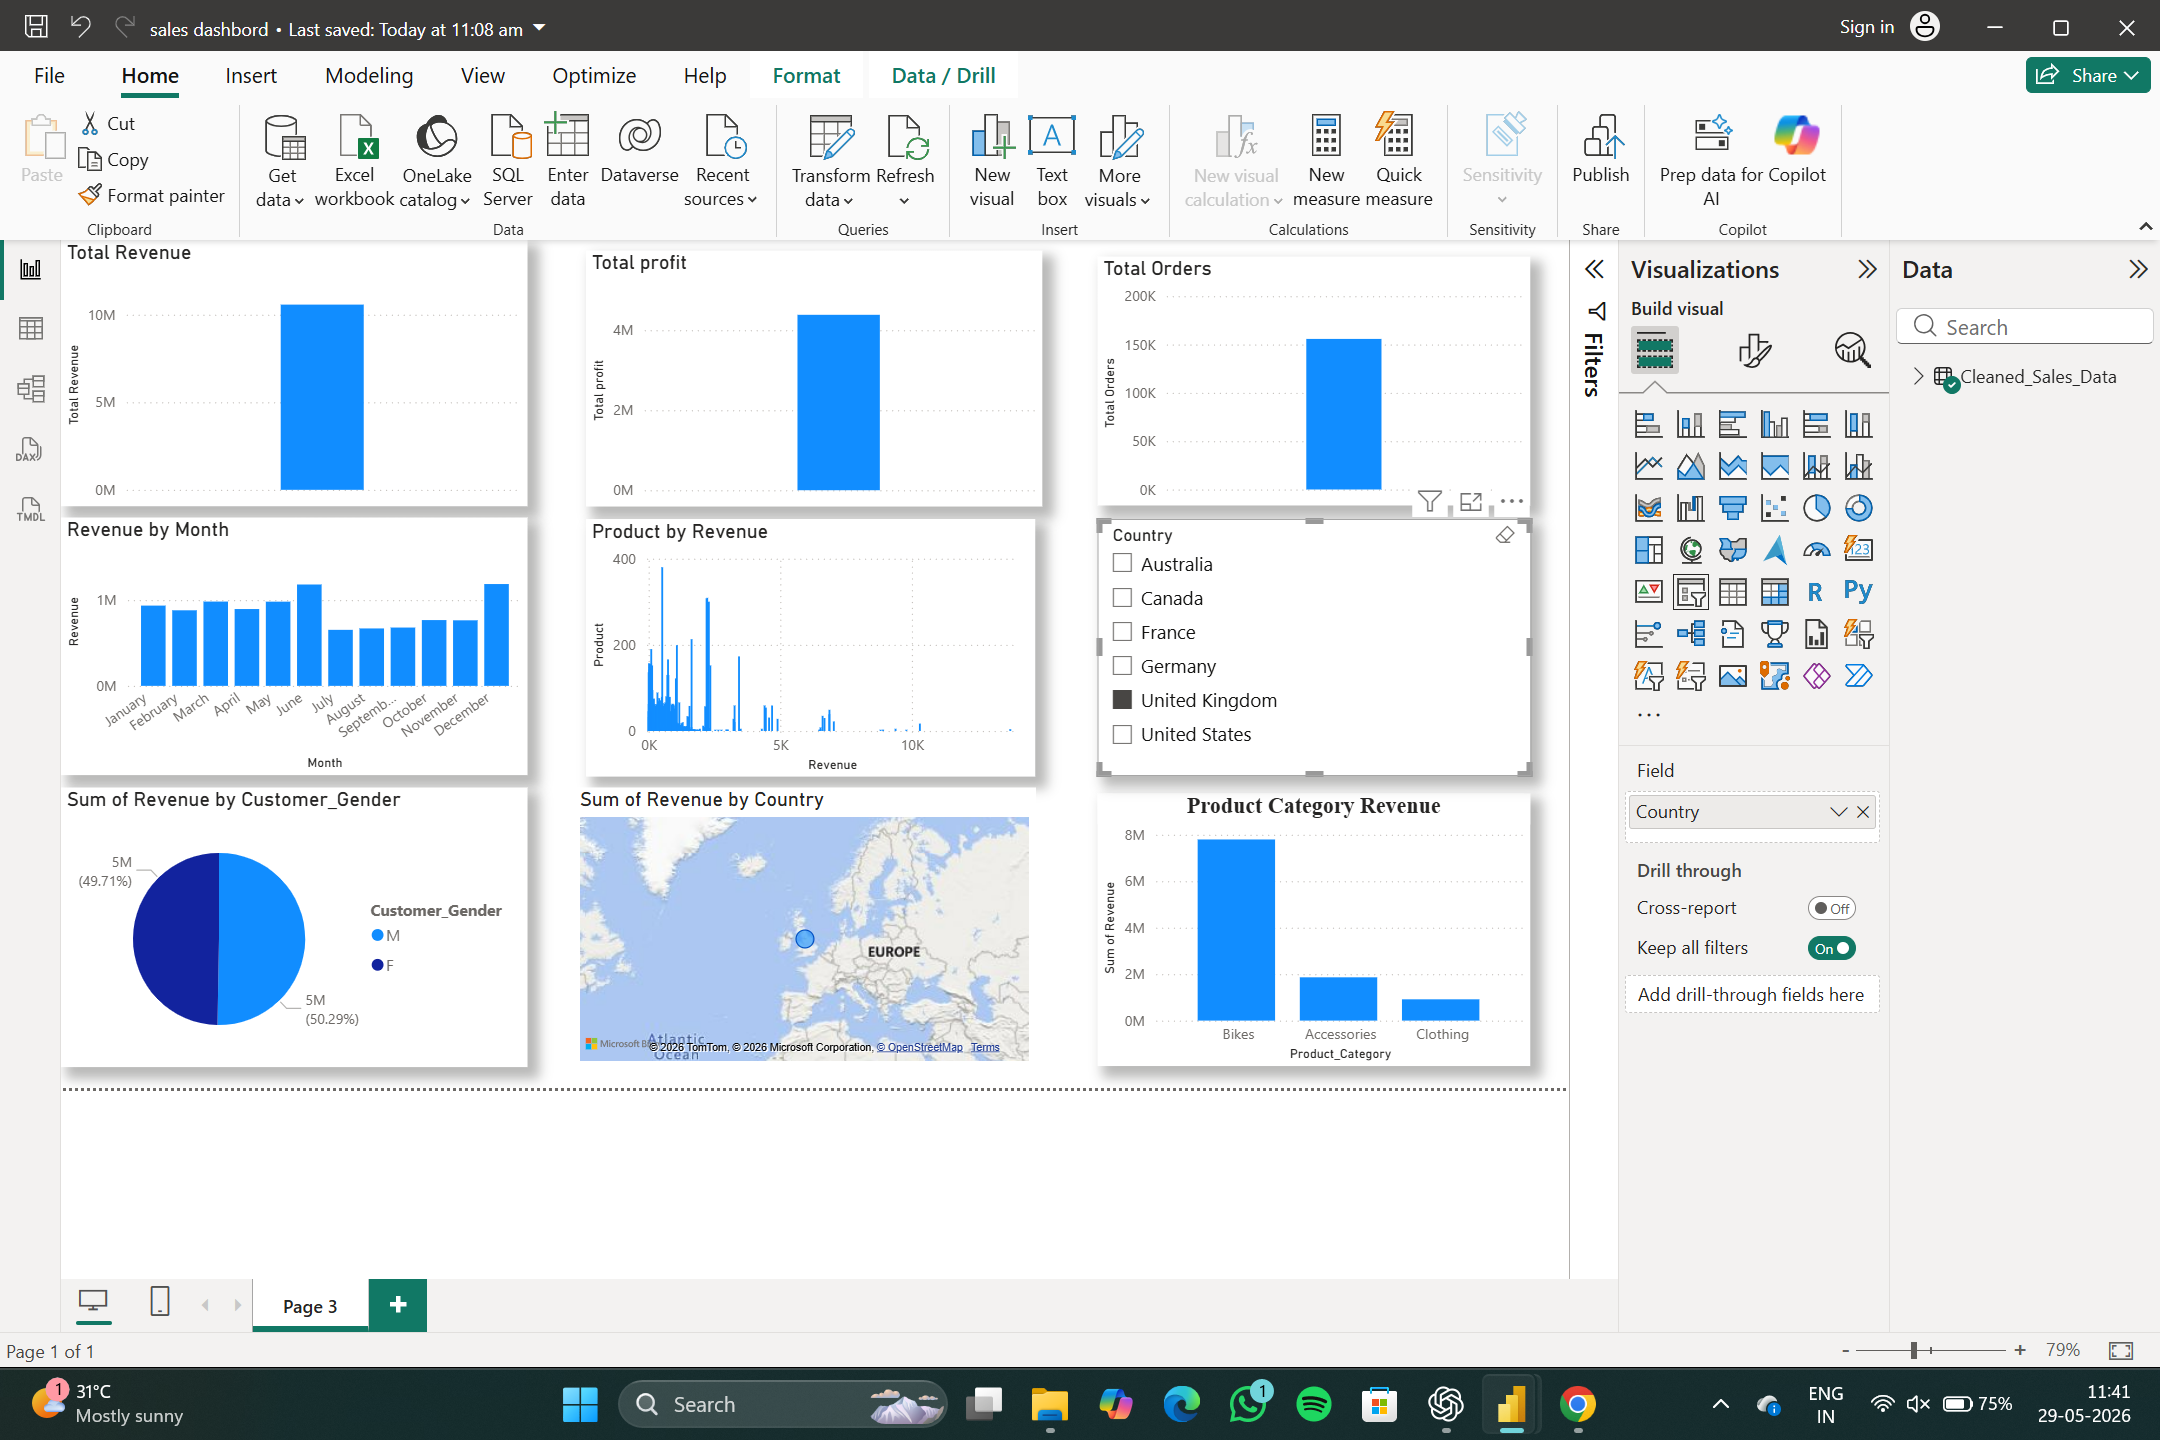

Layout of this report page (visuals, bound fields, positions):
{"tool":"powerbi","page":{"name":"Page 3","canvas":[1280,720],"ordinal":0},"visuals":[{"type":"clusteredColumnChart","fields":{"Y":["Sum(Cleaned_Sales_Data.Revenue)"]},"box":[0,0,395.7,225.7],"z":0},{"type":"clusteredColumnChart","fields":{"Y":["Sum(Cleaned_Sales_Data.Profit)"]},"box":[445.7,8.6,387.1,217.1],"z":1},{"type":"clusteredColumnChart","fields":{"Y":["Sum(Cleaned_Sales_Data.Order_Quantity)"]},"box":[880,14.3,367.1,211.4],"z":2},{"type":"lineStackedColumnComboChart","fields":{"Category":["Cleaned_Sales_Data.Date.Variation.Date Hierarchy.Month"],"Y":["Sum(Cleaned_Sales_Data.Revenue)"]},"box":[0,235.7,395.7,218.6],"z":3},{"type":"clusteredColumnChart","fields":{"Category":["Cleaned_Sales_Data.Revenue"],"Y":["CountNonNull(Cleaned_Sales_Data.Product)"]},"box":[445.7,237.1,381.4,218.6],"z":4},{"type":"pieChart","fields":{"Category":["Cleaned_Sales_Data.Customer_Gender"],"Y":["Sum(Cleaned_Sales_Data.Revenue)"]},"box":[0,464.3,395.7,237.1],"z":5},{"type":"map","fields":{"Category":["Cleaned_Sales_Data.Country"],"Size":["Sum(Cleaned_Sales_Data.Revenue)"]},"box":[435.7,464.3,391.4,237.1],"z":6},{"type":"clusteredColumnChart","title":"Product Category Revenue","fields":{"Category":["Cleaned_Sales_Data.Product_Category"],"Y":["Sum(Cleaned_Sales_Data.Revenue)"]},"box":[880,470,367.1,231.4],"z":7},{"type":"slicer","fields":{"Values":["Cleaned_Sales_Data.Country"]},"box":[880,237.1,367.1,217.1],"z":8}]}

Visuals, with their boxes on the page's 1280x720 design canvas (x1, y1, x2, y2). These are canvas units, not pixel positions in the 2160x1440 screenshot, which may show the page scaled, cropped or inside an application window:
clusteredColumnChart - Sum(Cleaned_Sales_Data.Revenue): bbox(0, 0, 396, 226)
clusteredColumnChart - Sum(Cleaned_Sales_Data.Profit): bbox(446, 9, 833, 226)
clusteredColumnChart - Sum(Cleaned_Sales_Data.Order_Quantity): bbox(880, 14, 1247, 226)
lineStackedColumnComboChart - Cleaned_Sales_Data.Date.Variation.Date Hierarchy.Month x Sum(Cleaned_Sales_Data.Revenue): bbox(0, 236, 396, 454)
clusteredColumnChart - Cleaned_Sales_Data.Revenue x CountNonNull(Cleaned_Sales_Data.Product): bbox(446, 237, 827, 456)
pieChart - Cleaned_Sales_Data.Customer_Gender x Sum(Cleaned_Sales_Data.Revenue): bbox(0, 464, 396, 701)
map - Cleaned_Sales_Data.Country x Sum(Cleaned_Sales_Data.Revenue): bbox(436, 464, 827, 701)
"Product Category Revenue" clusteredColumnChart: bbox(880, 470, 1247, 701)
slicer - Cleaned_Sales_Data.Country: bbox(880, 237, 1247, 454)
